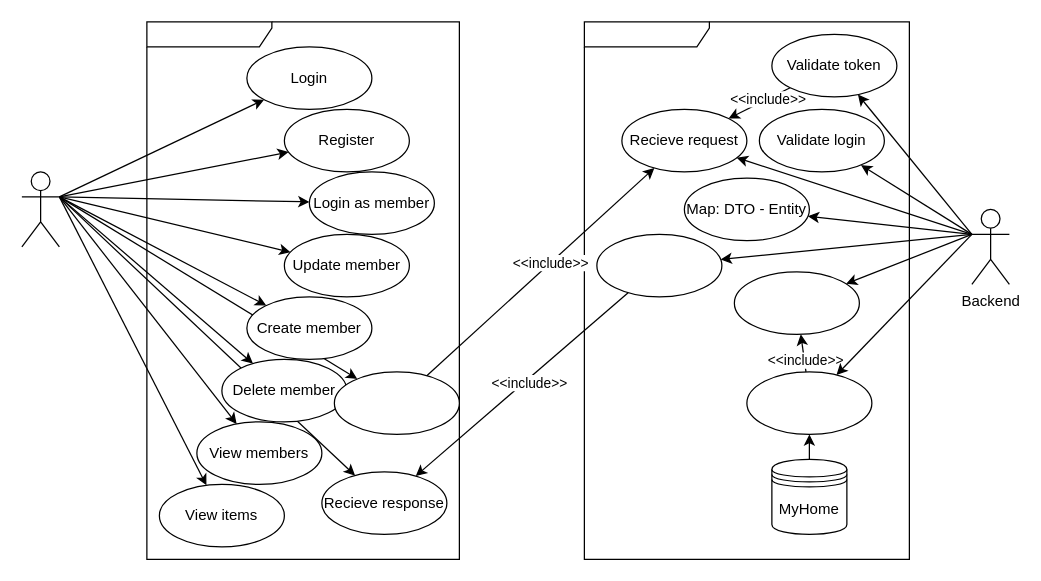
This 1041x581 diagram has some shape labels left out. Here are the shapes that lost their labels. From the top down, the box of each, then its label:
(21, 171, 59, 247): User
(596, 233, 722, 297): Send response
(146, 21, 459, 559): Android App
(583, 21, 909, 559): RESTful API
(733, 271, 859, 334): Transform data to entity
(333, 371, 459, 434): Send request
(746, 371, 872, 434): Get data from database
